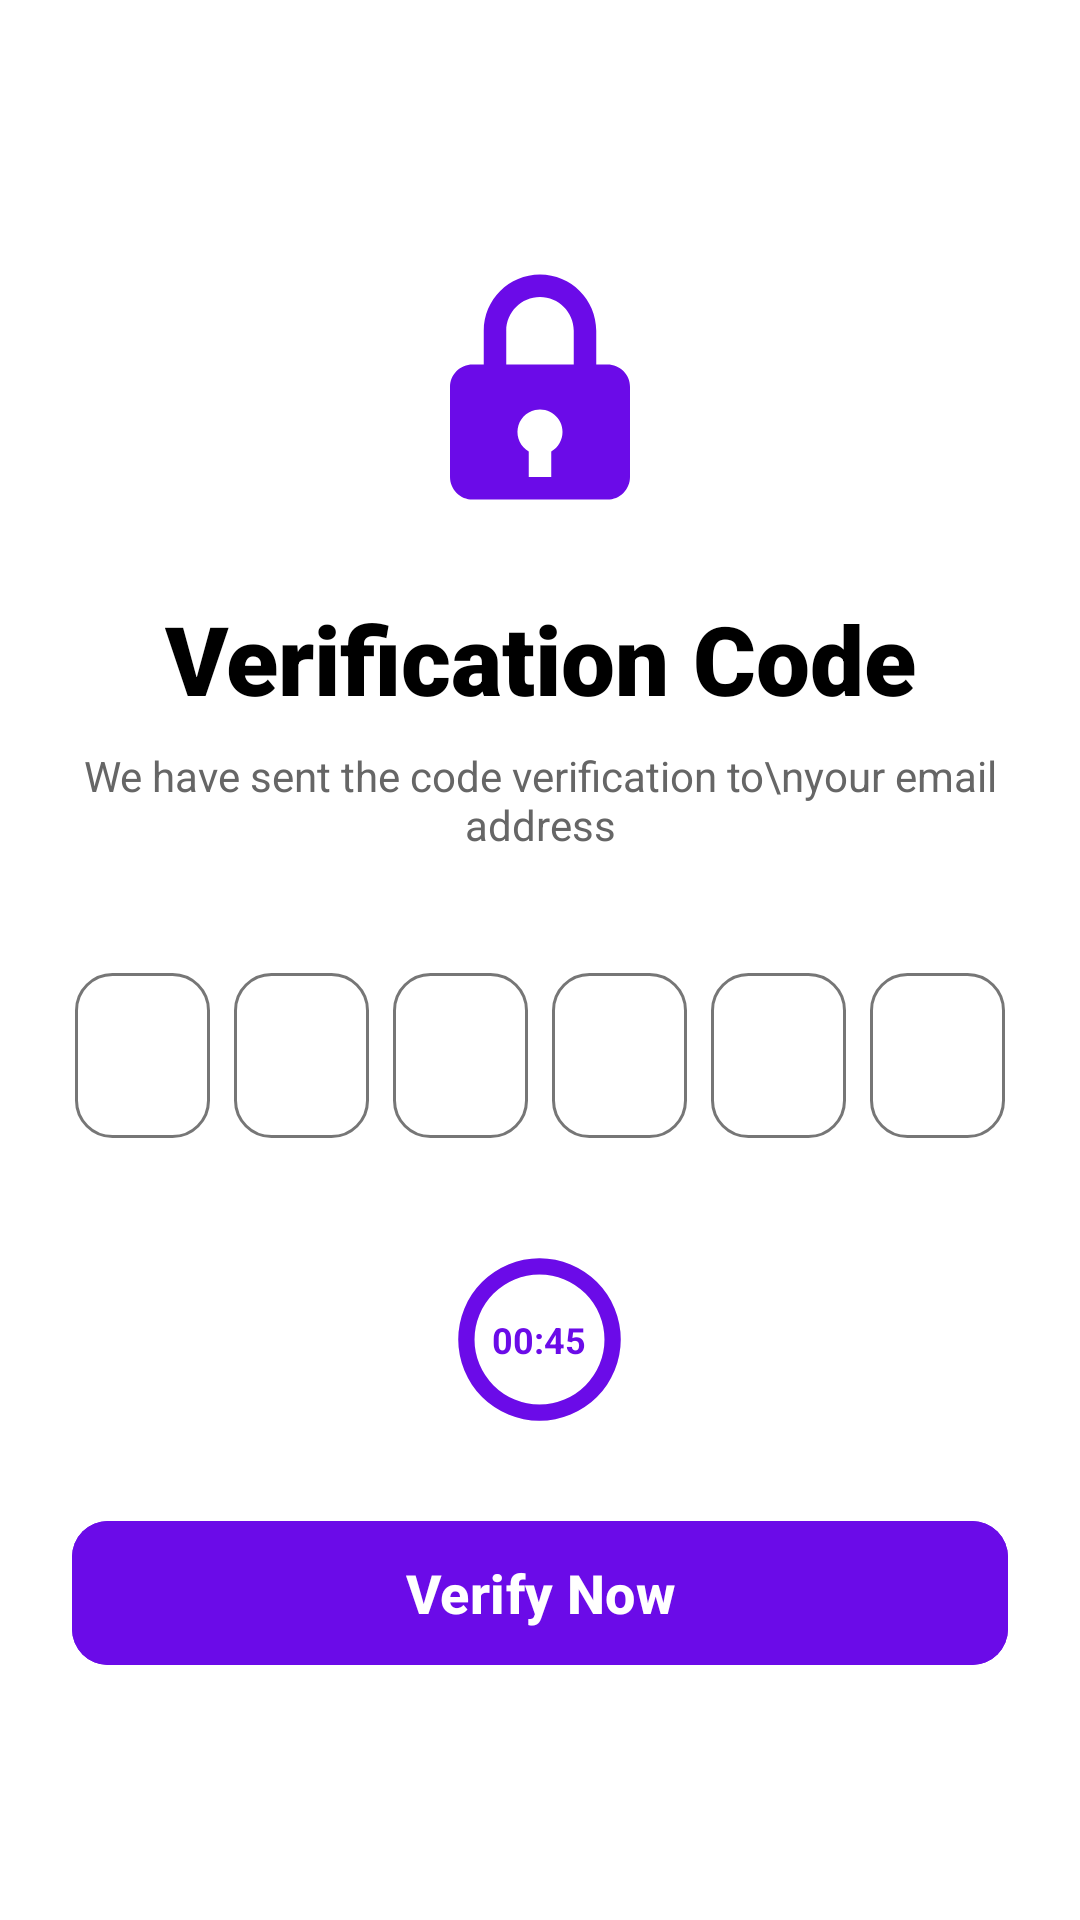

Icon click points for this 1080 x 1920 phone screenshot, format point (x, y):
lock: point (540, 387)
